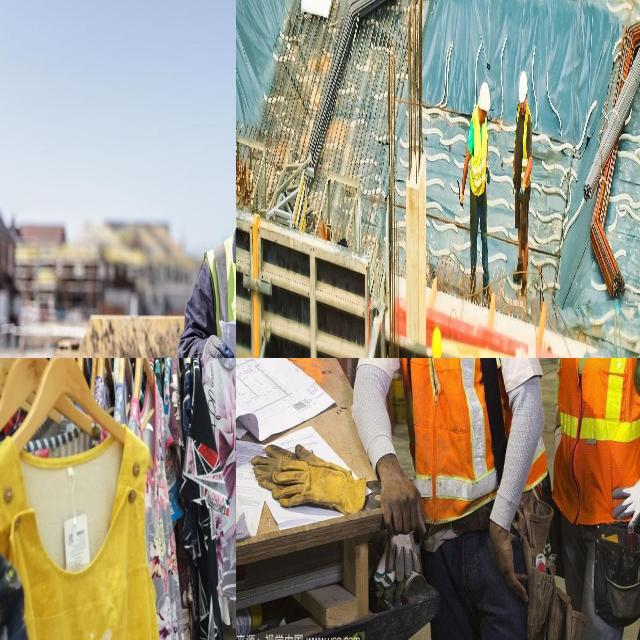hand_glove: (256, 432, 366, 524), (616, 453, 640, 522), (194, 332, 236, 358), (457, 179, 464, 212), (521, 168, 526, 202)
hand_noglove: (375, 453, 425, 535), (486, 514, 526, 599)
head_helmet: (477, 81, 490, 118), (430, 331, 445, 358), (517, 71, 528, 99)
person: (381, 358, 536, 640), (551, 358, 640, 640), (510, 67, 538, 292), (465, 83, 493, 287), (420, 314, 458, 358)
vest: (386, 358, 495, 505), (563, 358, 640, 510), (469, 118, 488, 192), (514, 122, 533, 192)
